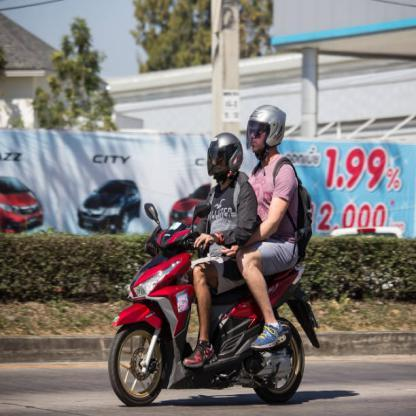Motorcycle: (104, 198, 315, 408)
